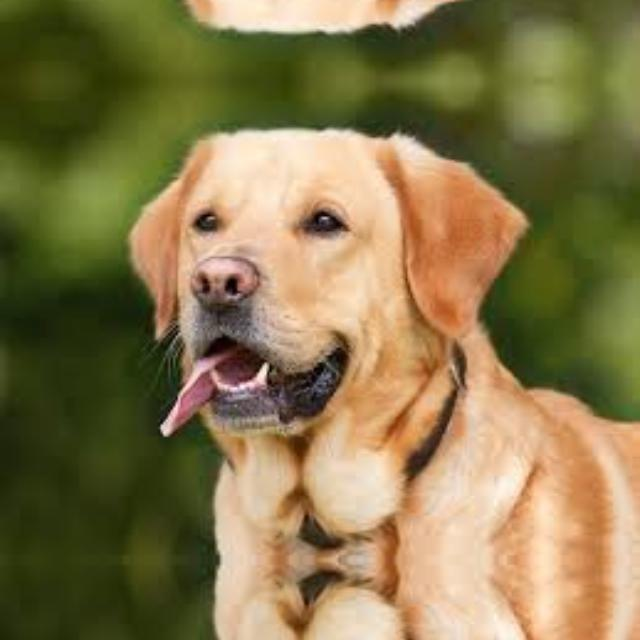dog: (123, 103, 527, 457), (123, 0, 527, 57)
